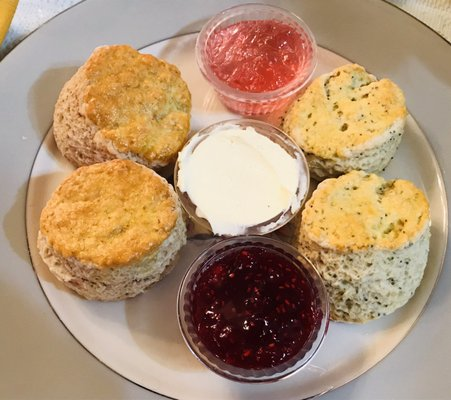sushi: (176, 237, 330, 383), (173, 118, 311, 238), (195, 5, 318, 129)
